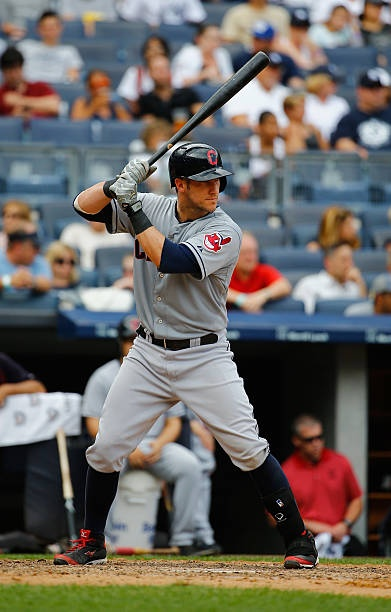bita: (140, 52, 267, 169)
